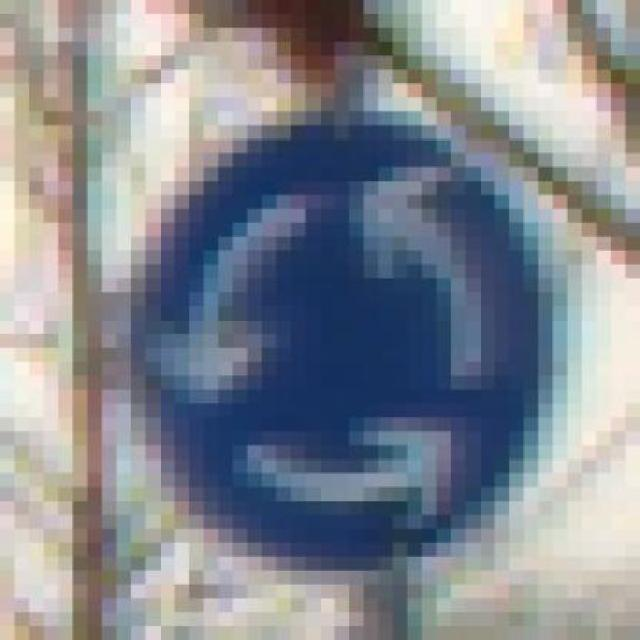Round-About: (102, 97, 596, 598)
